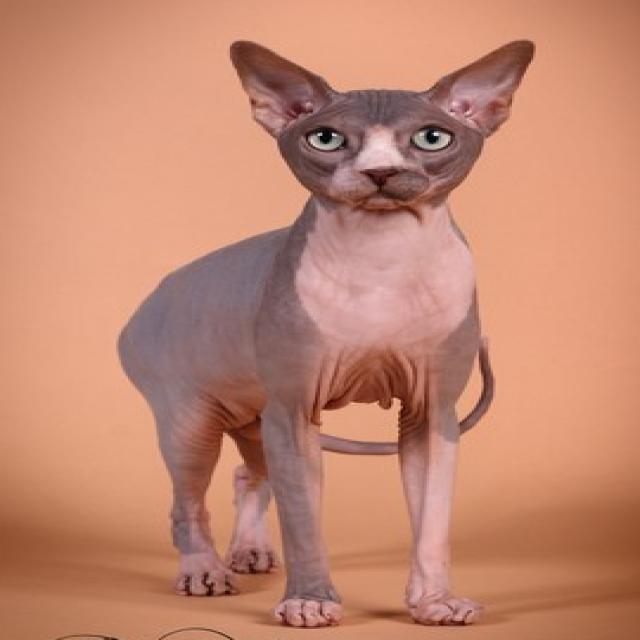Sphynx: (110, 35, 540, 631)
